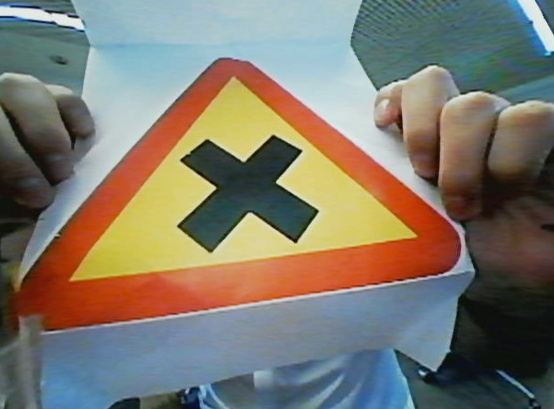junction: (15, 71, 471, 306)
